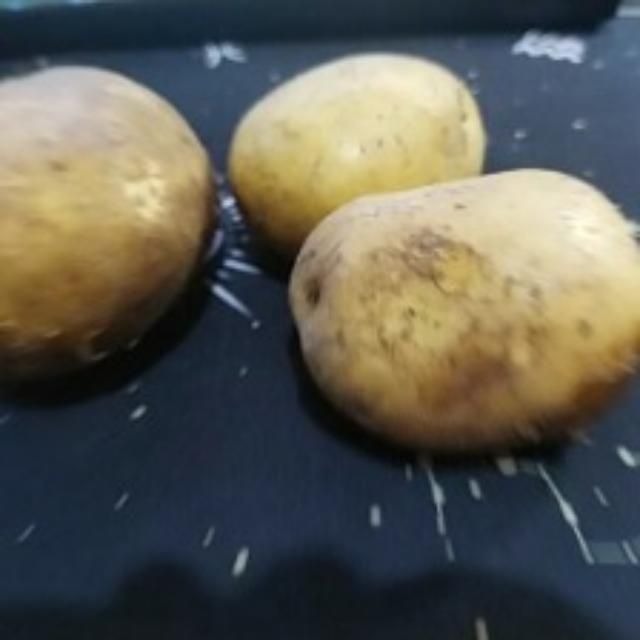Damaged potato: (284, 168, 638, 468), (3, 61, 223, 413)
Potato: (231, 56, 491, 264)
